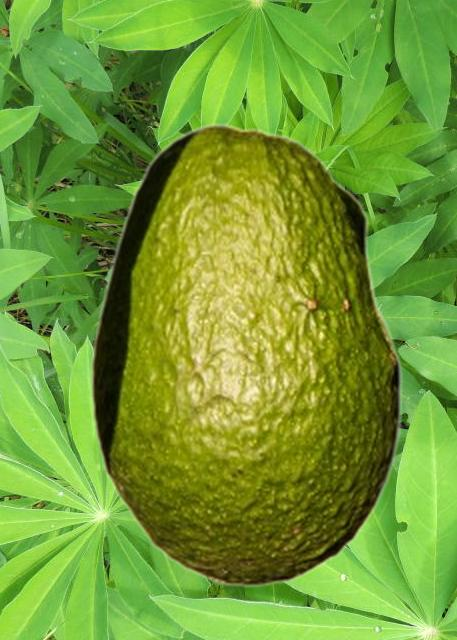avocado: (90, 122, 402, 587)
